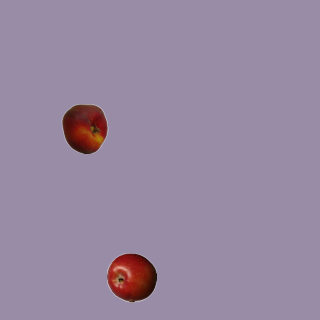Apple Braeburn: (106, 252, 156, 302)
Nectarine Flat: (59, 103, 109, 153)
